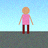person: (19, 7, 33, 34)
